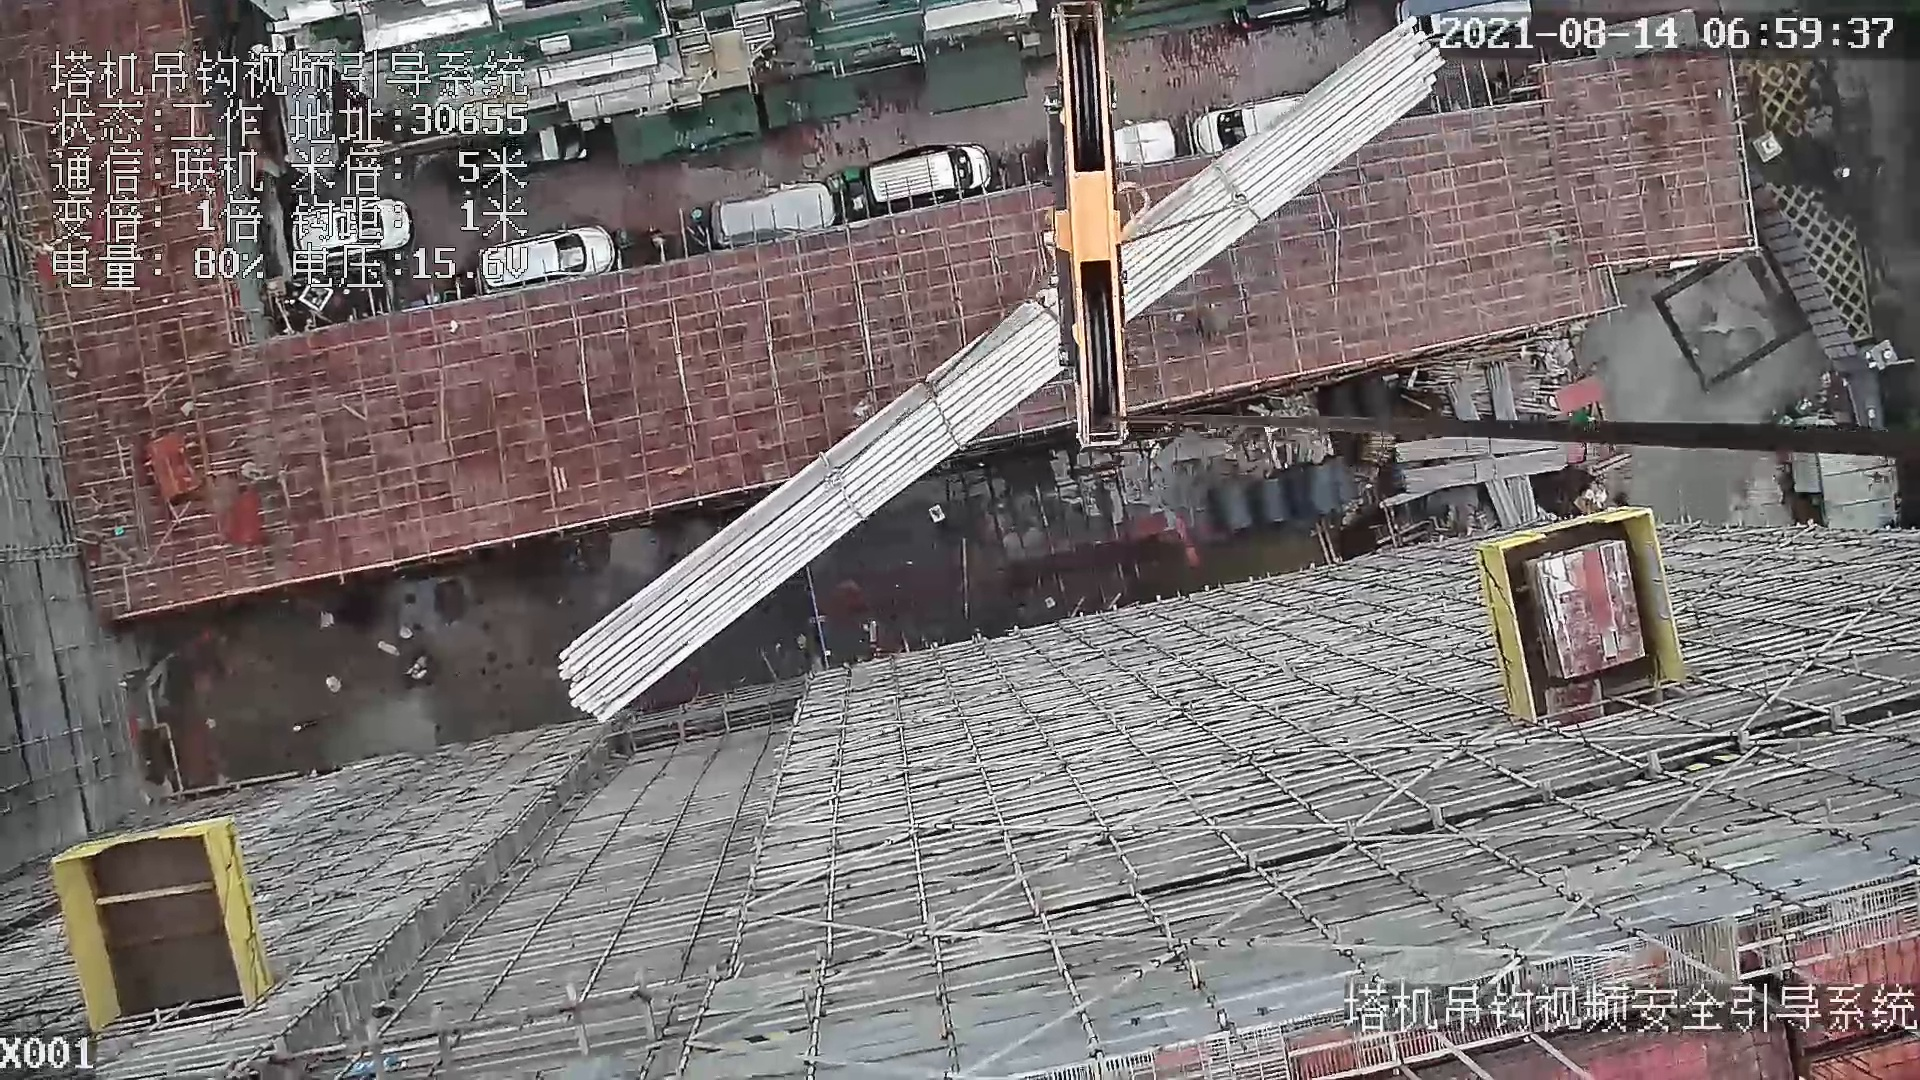board: (1527, 541, 1647, 679)
hook: (1023, 1, 1150, 446)
rebar: (560, 29, 1443, 724), (1403, 448, 1564, 492), (1390, 436, 1561, 462)
